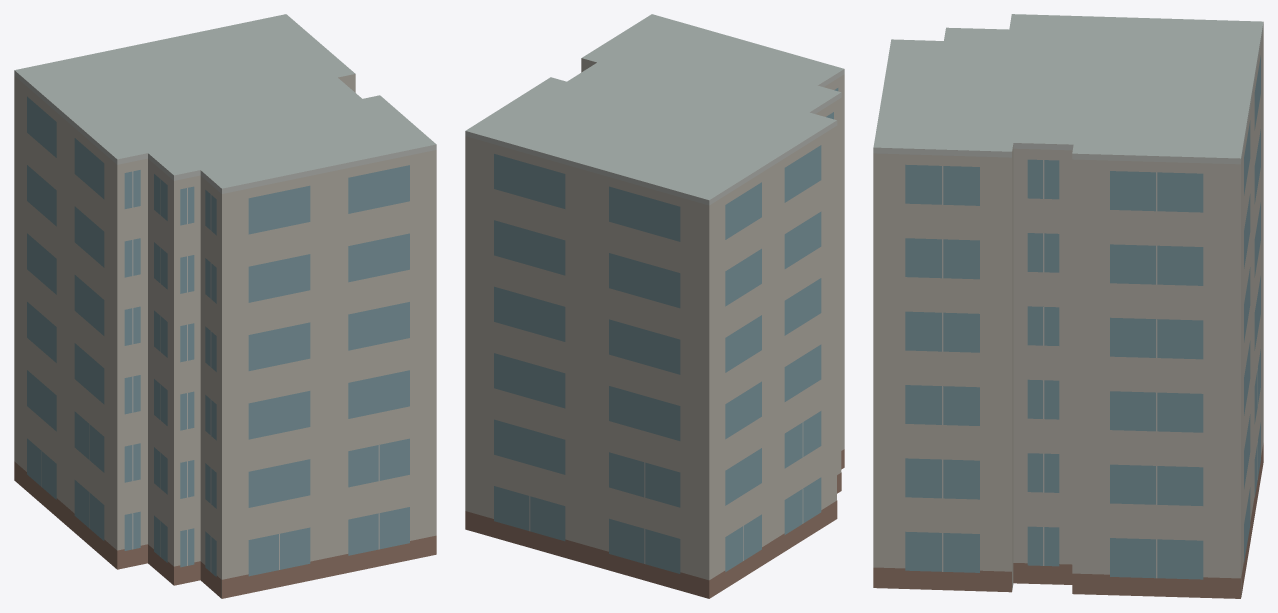
The model's file is survey-upis-32553823.glb.
3 views of the same model, side by side, from view 1: azimuth 30°, elevation 25°; view 2: azimuth 150°, elevation 25°; view 3: azimuth 270°, elevation 25° (orthographic). The views are drawn at different scales.
Parts seen in each view (by area): view 1: survey-upis-32553823.tmp; view 2: survey-upis-32553823.tmp; view 3: survey-upis-32553823.tmp.
Part boxes in pixels (x1=…): survey-upis-32553823.tmp: x1=14, y1=14, x2=436, y2=598; survey-upis-32553823.tmp: x1=465, y1=14, x2=844, y2=598; survey-upis-32553823.tmp: x1=873, y1=14, x2=1263, y2=598.
Size of the model in its own units: 12.99 by 18.45 by 14.82.
